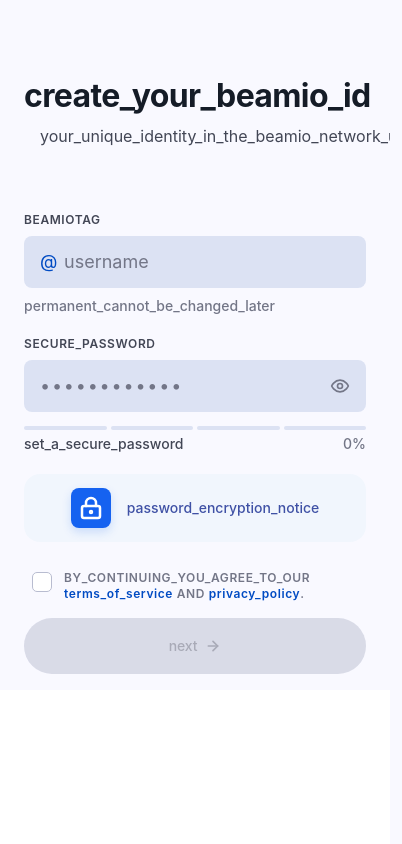
Test: browser branch: every failed attempt shows its error › two failures in a row that both return null (no thrown reason): the message shows after each, never nothing on the second
Later steps or results of the test are not shown.
Type "synthtag01" into the field with id "create-beamio-tag-input" at (195, 262), box [24,236,366,288]
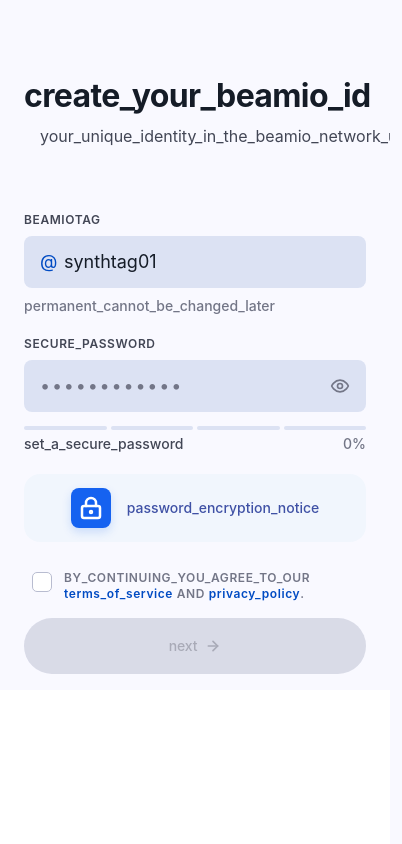
Type "Abcdefg1" into the password field with id "create-wallet-password" at (195, 386), box [24,360,366,412]
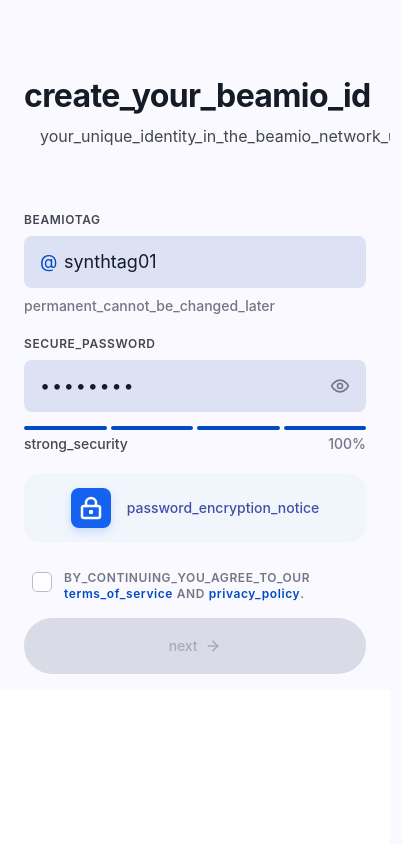
Click the checkbox at (42, 582), box [32,572,52,592]
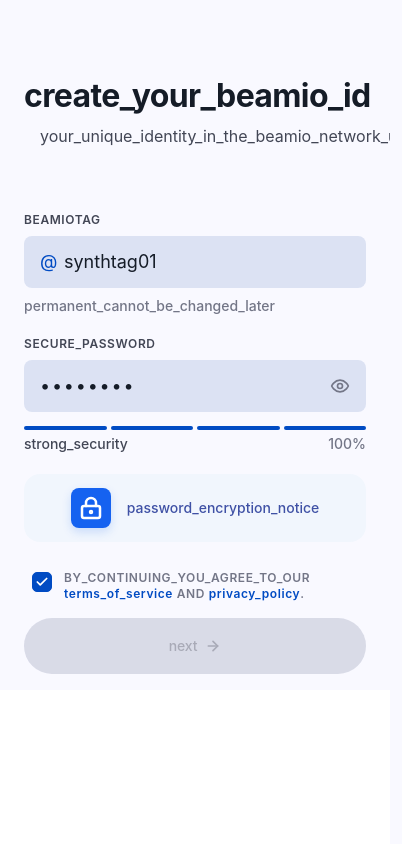
Leave the field with id "create-beamio-tag-input", box [24,236,366,288]
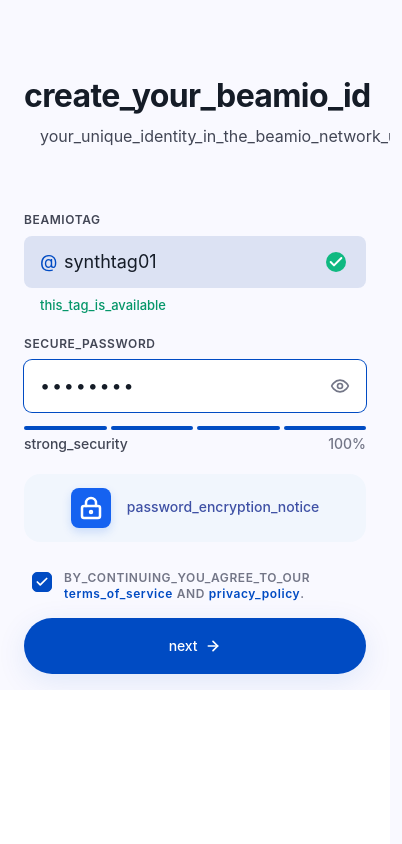
Result: the button "next" is enabled
Click the button "next" at (195, 646), box [24,618,366,674]
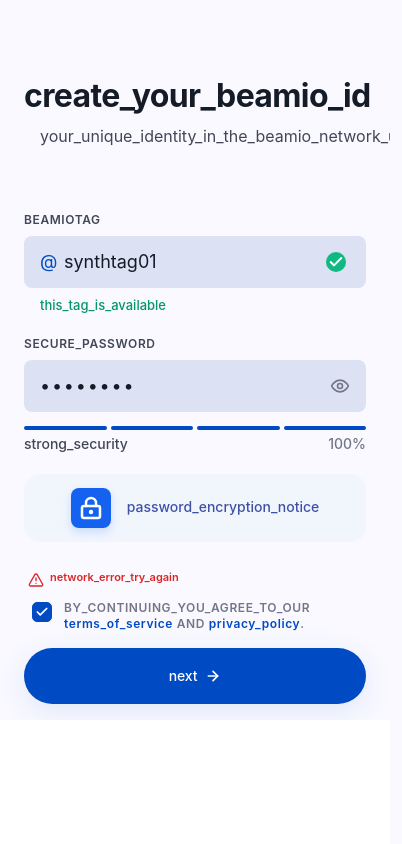
Result: the button "next" is enabled at [24,648,366,704]
Result: the text "network_error_try_again" is shown at [50,570,179,585]
